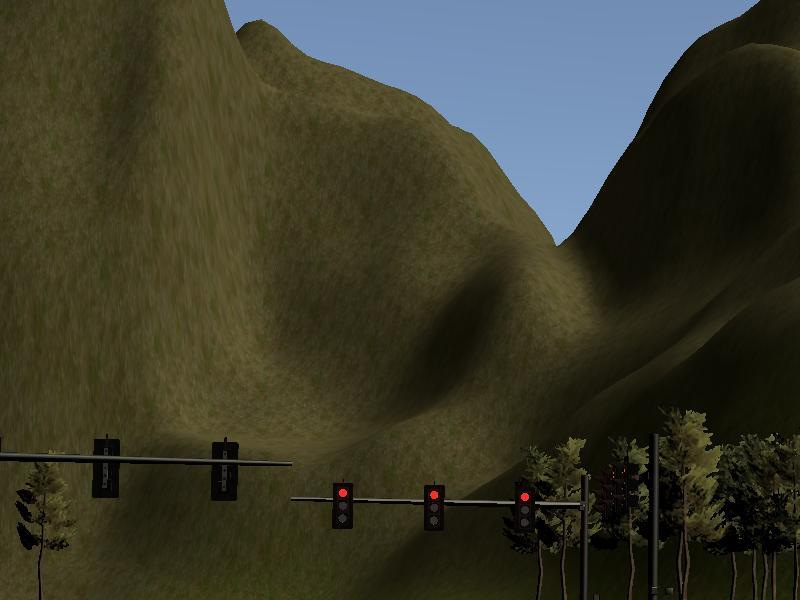Red: (331, 483, 353, 528), (425, 485, 446, 530), (516, 488, 535, 536)
